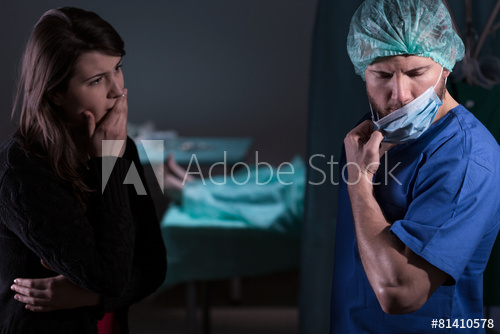mask_weared_incorrect: (350, 52, 462, 146)
